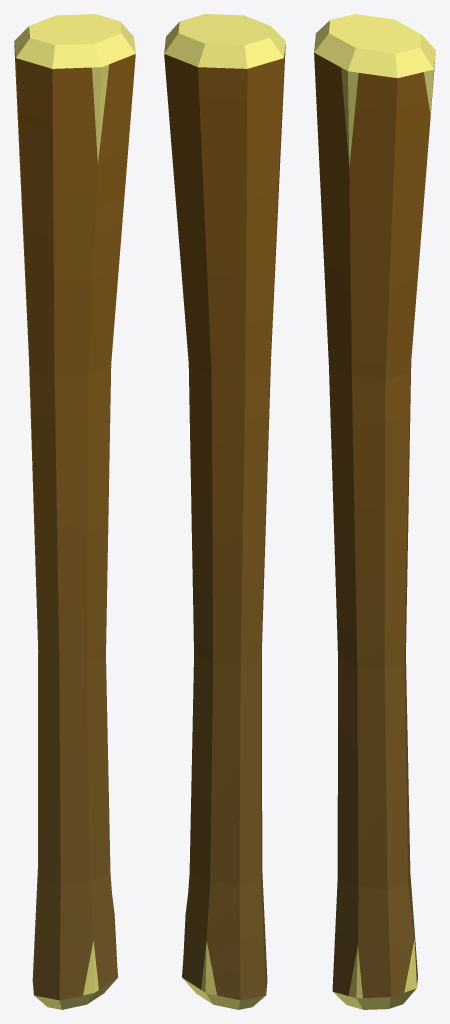
The model's file is club_1.glb.
The picture shows the model from 3 angles, left to right: view 1: azimuth 30°, elevation 25°; view 2: azimuth 150°, elevation 25°; view 3: azimuth 330°, elevation 25°; orthographic projection.
Visible parts, largest first — view 1: bat_1; view 2: bat_1; view 3: bat_1.
Part boxes in pixels (x1,y1,x2,y2): bat_1: (14,14,135,1009); bat_1: (164,14,285,1009); bat_1: (314,14,435,1009).
Size of the model in its own units: 0.0664 by 0.5229 by 0.0526.
1 material, 1 textured.
